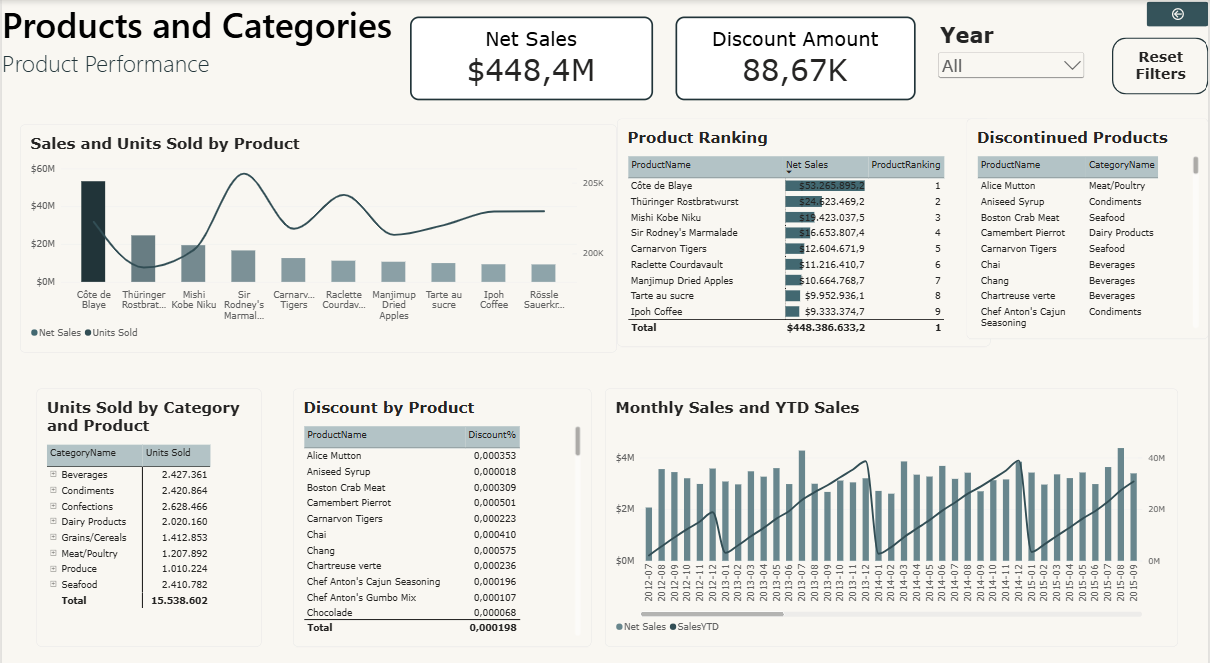

The dashboard page shown, as its layout file describes it:
{"tool":"powerbi","page":{"name":"Products and Categories","canvas":[1920,1080],"ordinal":1},"visuals":[{"type":"tableEx","title":"Product Ranking","fields":{"Values":["DimProduct.ProductName","ImportantMeasures.NetSales","ImportantMeasures.ProductRanking"]},"box":[978.2,188.5,594.1,362.7],"z":0},{"type":"lineClusteredColumnComboChart","title":"Sales and Units Sold by Product","fields":{"Category":["DimProduct.ProductName"],"Y":["ImportantMeasures.NetSales"],"Y2":["ImportantMeasures.UnitsSold"]},"box":[28.6,198,949.6,362.7],"z":1000},{"type":"pivotTable","title":"Units Sold by Category and Product","fields":{"Rows":["DimProduct.CategoryName Hierarchy.CategoryName","DimProduct.CategoryName Hierarchy.ProductName"],"Values":["ImportantMeasures.UnitsSold"]},"box":[54.9,618,357.9,410.4],"z":2000},{"type":"lineStackedColumnComboChart","title":"Monthly Sales and YTD Sales","fields":{"Category":["DimDate.YearMonth"],"Y":["ImportantMeasures.Net Sales"],"Y2":["ImportantMeasures.SalesYTD"]},"box":[959.1,618,911.4,410.4],"z":3000},{"type":"actionButton","box":[1820.5,2.4,100,40],"z":4000},{"type":"tableEx","title":"Discontinued Products","fields":{"Values":["DimProduct.ProductName","DimProduct.CategoryName"]},"box":[1534.1,188.5,386.5,350.7],"z":5000},{"type":"actionButton","title":"Reset Filters","box":[1765.6,59.6,155.1,90.7],"z":6000},{"type":"slicer","fields":{"Values":["DimDate.Year"]},"box":[1484,35.8,242.5,125],"z":7000},{"type":"tableEx","title":"Discount by Product","fields":{"Values":["DimProduct.ProductName","ImportantMeasures.Discount%"]},"box":[462.9,618,474.8,410.4],"z":8000},{"type":"textbox","box":[0,0,793,150],"z":9000},{"type":"cardVisual","fields":{"Data":["ImportantMeasures.DiscountAmount"]},"box":[1071.3,26.2,381.7,133.6],"z":10000},{"type":"cardVisual","fields":{"Data":["ImportantMeasures.NetSales"]},"box":[649,26.2,386.5,133.6],"z":11000}]}

Visuals, with their boxes in screenshot pixels (x1, y1, x2, y2), scaled from the page's 1920x1080 canvas onto the 1210x663 screenshot:
"Product Ranking" tableEx: [left=616, top=116, right=991, bottom=338]
"Sales and Units Sold by Product" lineClusteredColumnComboChart: [left=18, top=122, right=616, bottom=344]
"Units Sold by Category and Product" pivotTable: [left=35, top=379, right=260, bottom=631]
"Monthly Sales and YTD Sales" lineStackedColumnComboChart: [left=604, top=379, right=1179, bottom=631]
actionButton: [left=1147, top=1, right=1209, bottom=26]
"Discontinued Products" tableEx: [left=967, top=116, right=1209, bottom=331]
"Reset Filters" actionButton: [left=1113, top=37, right=1209, bottom=92]
slicer - DimDate.Year: [left=935, top=22, right=1088, bottom=99]
"Discount by Product" tableEx: [left=292, top=379, right=591, bottom=631]
textbox: [left=0, top=0, right=500, bottom=92]
cardVisual - ImportantMeasures.DiscountAmount: [left=675, top=16, right=916, bottom=98]
cardVisual - ImportantMeasures.NetSales: [left=409, top=16, right=653, bottom=98]
